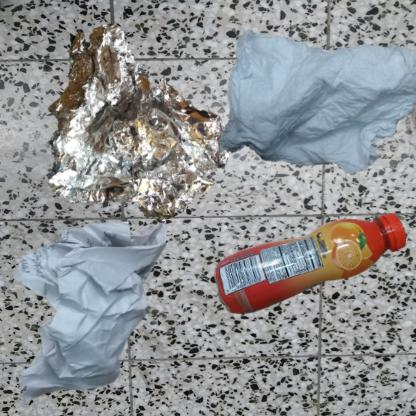aluminio: (10, 10, 281, 274)
botella: (213, 213, 409, 315)
papel: (213, 10, 416, 203), (10, 213, 168, 409)
